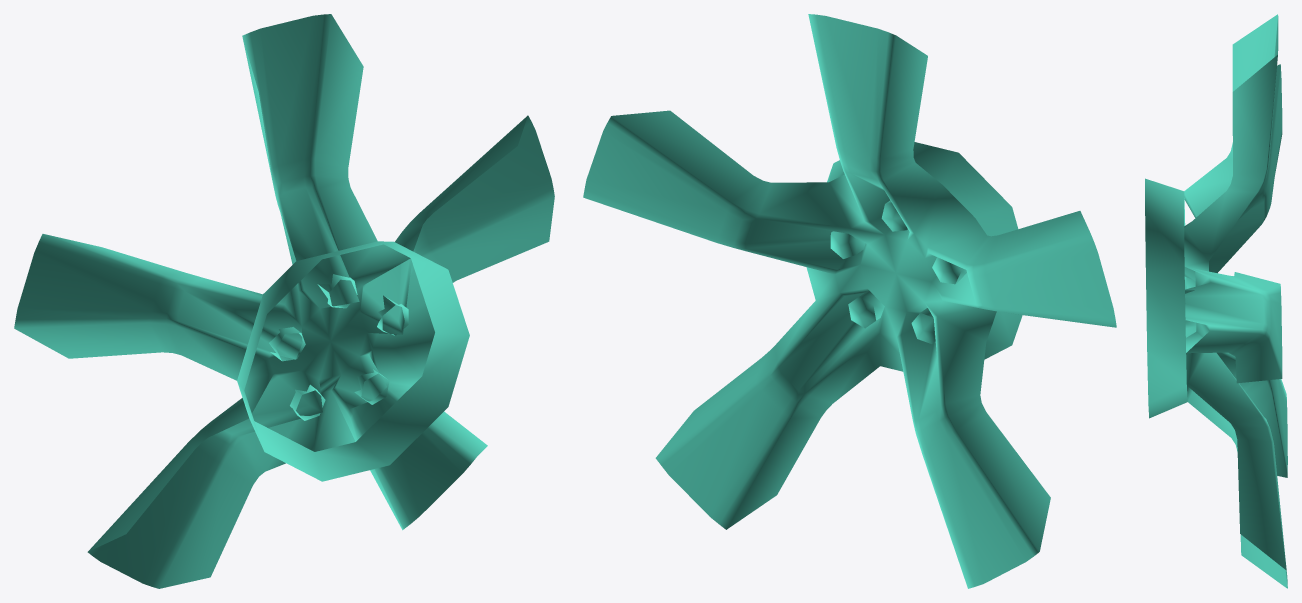
The model's file is Rin_izq.obj.
3 views of the same model, side by side, from view 1: azimuth 30°, elevation 25°; view 2: azimuth 150°, elevation 25°; view 3: azimuth 270°, elevation 25° (orthographic). The views are drawn at different scales.
Visible parts, largest first — view 1: RinIzq; view 2: RinIzq; view 3: RinIzq.
Boxes of the visible parts, <box> form: RinIzq: <box>14,14,554,588</box>; RinIzq: <box>583,14,1116,588</box>; RinIzq: <box>1145,14,1287,588</box>.
Size of the model in its own units: 0.5678 by 0.5424 by 0.1399.
